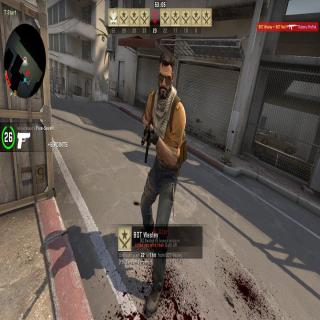T-Body: (134, 50, 188, 314)
T-Head: (158, 52, 174, 100)
